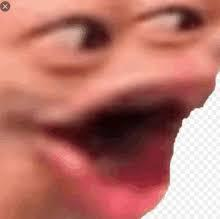poggers: (2, 2, 215, 211)
